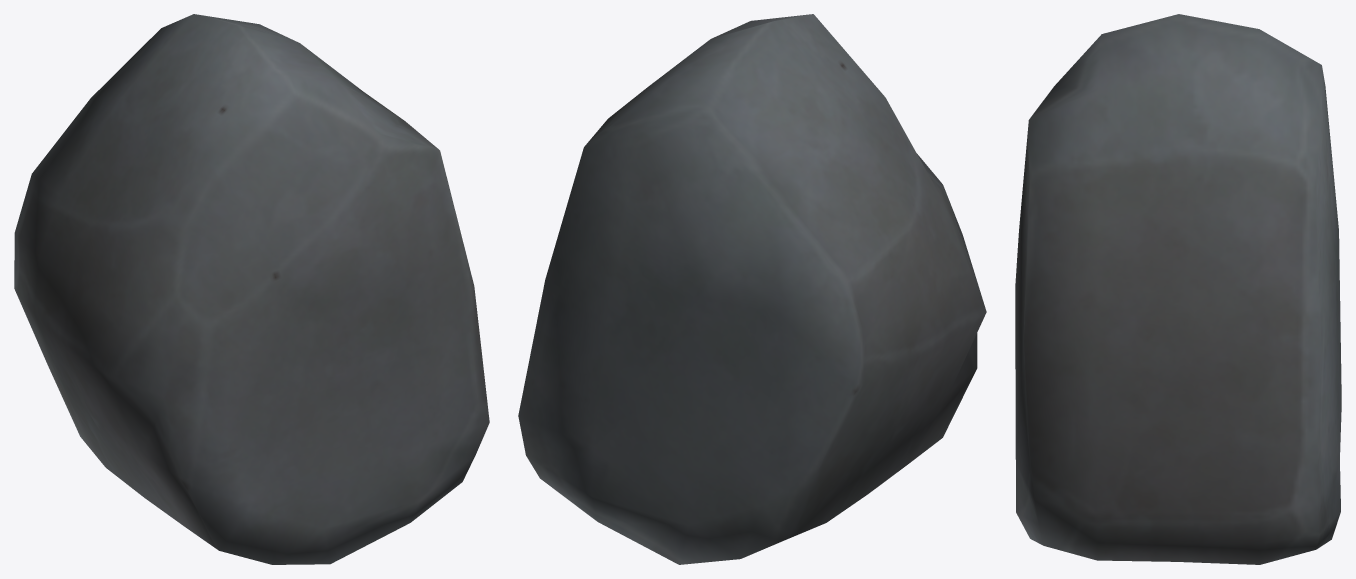
Rendered from SM_Rock_03.glb.
3 renders of one model, left to right at view 1: azimuth 30°, elevation 25°; view 2: azimuth 150°, elevation 25°; view 3: azimuth 270°, elevation 25°, orthographic.
Visible parts, largest first — view 1: SM_Rock_03; view 2: SM_Rock_03; view 3: SM_Rock_03.
Part boxes in pixels (bbox=[...]): SM_Rock_03: bbox=[14, 14, 489, 564]; SM_Rock_03: bbox=[518, 14, 986, 564]; SM_Rock_03: bbox=[1015, 14, 1341, 564].
Bounding box in the file's own units: 0.6093 × 0.7725 × 0.4528.
Materials: 1 (1 with a texture image).
